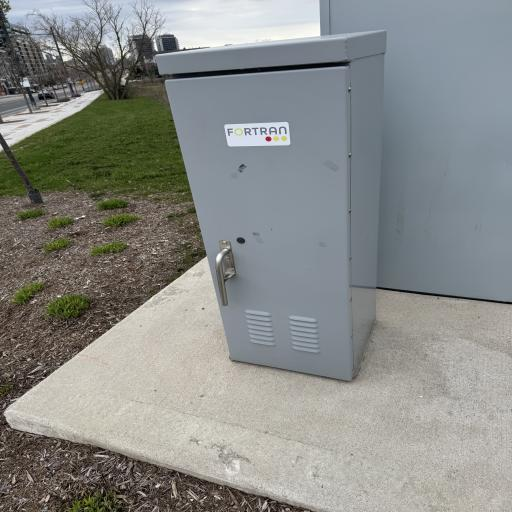Electrical Box: (162, 25, 390, 382), (316, 0, 512, 304)
